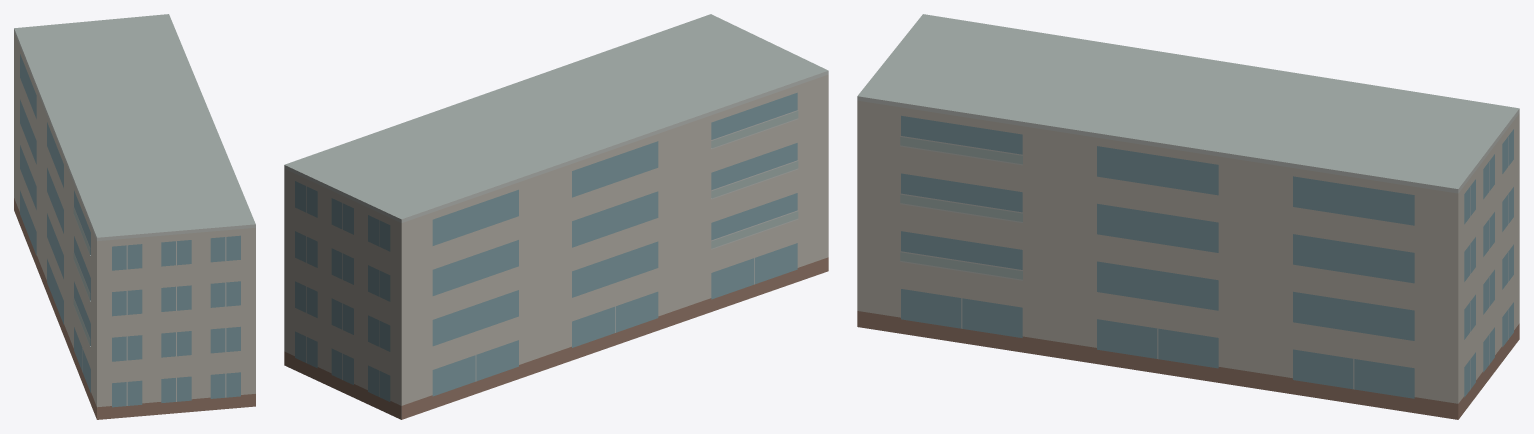
File: survey-upis-32878379.glb
The picture shows the model from 3 angles, left to right: view 1: azimuth 30°, elevation 25°; view 2: azimuth 150°, elevation 25°; view 3: azimuth 270°, elevation 25°; orthographic projection. The views are drawn at different scales.
Visible parts, largest first — view 1: survey-upis-32878379.tmp; view 2: survey-upis-32878379.tmp; view 3: survey-upis-32878379.tmp.
Boxes of the visible parts, x1,y1,x2,y2 form: survey-upis-32878379.tmp: (14,14,255,419); survey-upis-32878379.tmp: (284,14,828,419); survey-upis-32878379.tmp: (857,14,1519,419).
Bounding box in the file's own units: 20.84 × 12.8 × 33.31.
